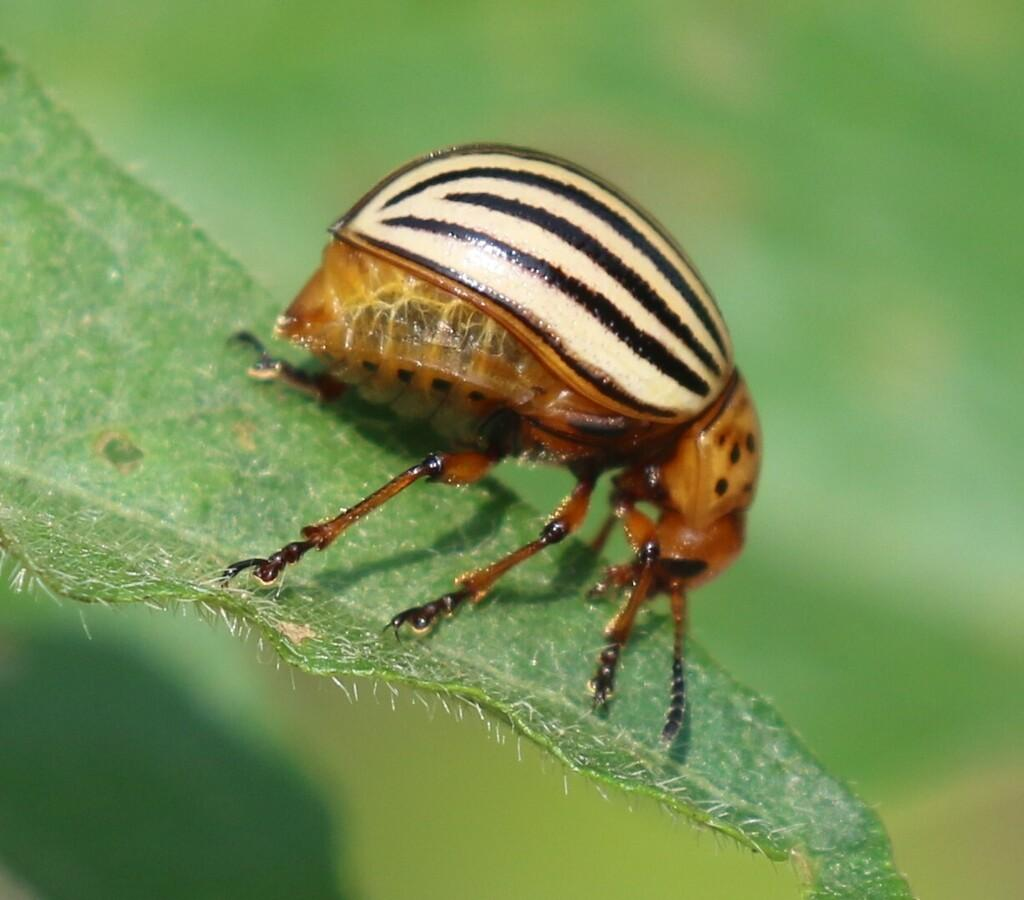potato_beetle: (161, 64, 842, 781)
